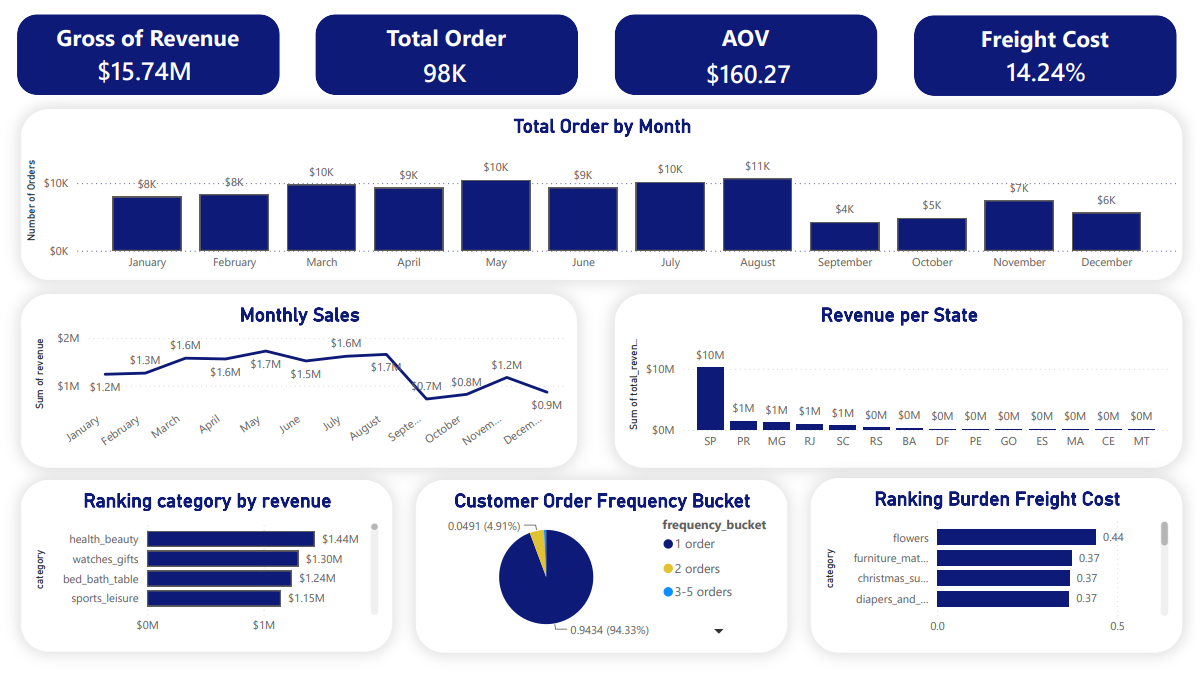

The dashboard page shown, as its layout file describes it:
{"tool":"powerbi","page":{"name":"Overiew","canvas":[1280,720],"ordinal":0},"visuals":[{"type":"group","id":"g1","title":"Group 1","box":[661,20.1,280.9,86.5],"z":0},{"type":"group","id":"g2","title":"Group 1","box":[23.7,20.1,279.9,86.3],"z":1000},{"type":"shape","box":[23.7,20.1,279.9,86.3],"z":2000,"group":"g2"},{"type":"shape","box":[341.9,20.1,279.9,86.3],"z":2000,"group":"g3"},{"type":"shape","box":[661,20.1,279.9,86.3],"z":2000,"group":"g1"},{"type":"shape","box":[980.1,21.3,279.9,86.3],"z":2000,"group":"g5"},{"type":"textbox","box":[44.2,28.2,238.2,36.7],"z":4000,"group":"g2"},{"type":"textbox","box":[362.4,28.2,238.2,36.7],"z":4000,"group":"g3"},{"type":"textbox","box":[681.5,28.2,238.2,36.7],"z":4000,"group":"g1"},{"type":"textbox","box":[1000.6,29.4,238.2,36.7],"z":4000,"group":"g5"},{"type":"clusteredColumnChart","title":"Total Order by Month","fields":{"Category":["revenue-by-month.Custom_month.Variation.Date Hierarchy.Month"],"Y":["Sum(revenue-by-month.quatily_order)"]},"box":[28.4,120.9,1237.3,182.5],"z":4000},{"type":"lineChart","title":"Monthly Sales","fields":{"Category":["revenue-by-month.Custom_month.Variation.Date Hierarchy.Month"],"Y":["Sum(revenue-by-month.revenue)"]},"box":[28.4,317.6,592.6,184.9],"z":5000},{"type":"clusteredColumnChart","title":"Revenue per State","fields":{"Category":["revenue-per-state.seller_state"],"Y":["Sum(revenue-per-state.total_revenue)"]},"box":[661.3,317.6,604.4,184.9],"z":6000},{"type":"group","id":"g3","title":"Group 1","box":[341.9,20.1,280.9,86.5],"z":7000},{"type":"group","id":"g4","title":"Group 2","box":[980.1,21.3,280.9,86.5],"z":9000},{"type":"group","id":"g5","title":"Group 1","box":[980.1,21.3,280.9,86.5],"z":9000,"group":"g4"},{"type":"cardVisual","fields":{"Data":["final-ecommerce-dataset.Freight_cost"]},"box":[1001.4,61.6,240.6,35.6],"z":10000,"group":"g4"},{"type":"clusteredBarChart","title":"Ranking category by revenue","fields":{"Category":["category_abc_analysis_pbi.category"],"Y":["Sum(category_abc_analysis_pbi.revenue)"]},"box":[28.4,515.6,395.9,183.7],"z":10000},{"type":"pieChart","title":"Customer Order Frequency Bucket","fields":{"Category":["customer-order-frequency-buckets.frequency_bucket"],"Y":["Sum(customer-order-frequency-buckets.revenue_percent)"]},"box":[449.2,515.6,395.9,184.9],"z":11000},{"type":"clusteredBarChart","title":"Ranking Burden Freight Cost","fields":{"Category":["burden-freight-cost-rank.category"],"Y":["Sum(burden-freight-cost-rank.freight_pct)"]},"box":[869.9,514.4,395.9,186.1],"z":12000},{"type":"cardVisual","fields":{"Data":["Sum(final-ecommerce-dataset.Revenue)"]},"box":[40.3,60.4,240.6,36.7],"z":12500},{"type":"cardVisual","fields":{"Data":["Sum(revenue-by-month.quatily_order)"]},"box":[360.3,61.6,240.6,36.7],"z":13000},{"type":"cardVisual","fields":{"Data":["aov-by-month.AOV_overall"]},"box":[682.7,62.8,241.8,35.6],"z":13500}]}

Visuals, with their boxes in screenshot pixels (x1, y1, x2, y2), scaled from the page's 1280x720 canvas onto the 1202x677 screenshot:
"Group 1" group: rect(621, 19, 885, 100)
"Group 1" group: rect(22, 19, 285, 100)
shape: rect(22, 19, 285, 100)
shape: rect(321, 19, 584, 100)
shape: rect(621, 19, 884, 100)
shape: rect(920, 20, 1183, 101)
textbox: rect(42, 27, 265, 61)
textbox: rect(340, 27, 564, 61)
textbox: rect(640, 27, 864, 61)
textbox: rect(940, 28, 1163, 62)
"Total Order by Month" clusteredColumnChart: rect(27, 114, 1189, 285)
"Monthly Sales" lineChart: rect(27, 299, 583, 472)
"Revenue per State" clusteredColumnChart: rect(621, 299, 1189, 472)
"Group 1" group: rect(321, 19, 585, 100)
"Group 2" group: rect(920, 20, 1184, 101)
"Group 1" group: rect(920, 20, 1184, 101)
cardVisual - final-ecommerce-dataset.Freight_cost: rect(940, 58, 1166, 91)
"Ranking category by revenue" clusteredBarChart: rect(27, 485, 398, 658)
"Customer Order Frequency Bucket" pieChart: rect(422, 485, 794, 659)
"Ranking Burden Freight Cost" clusteredBarChart: rect(817, 484, 1189, 659)
cardVisual - Sum(final-ecommerce-dataset.Revenue): rect(38, 57, 264, 91)
cardVisual - Sum(revenue-by-month.quatily_order): rect(338, 58, 564, 92)
cardVisual - aov-by-month.AOV_overall: rect(641, 59, 868, 93)
